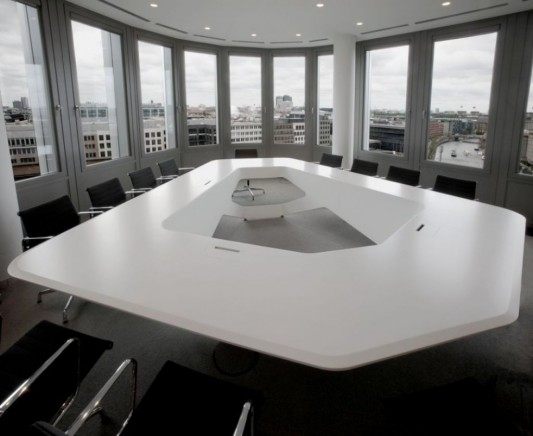conference_table: (8, 158, 527, 371)
